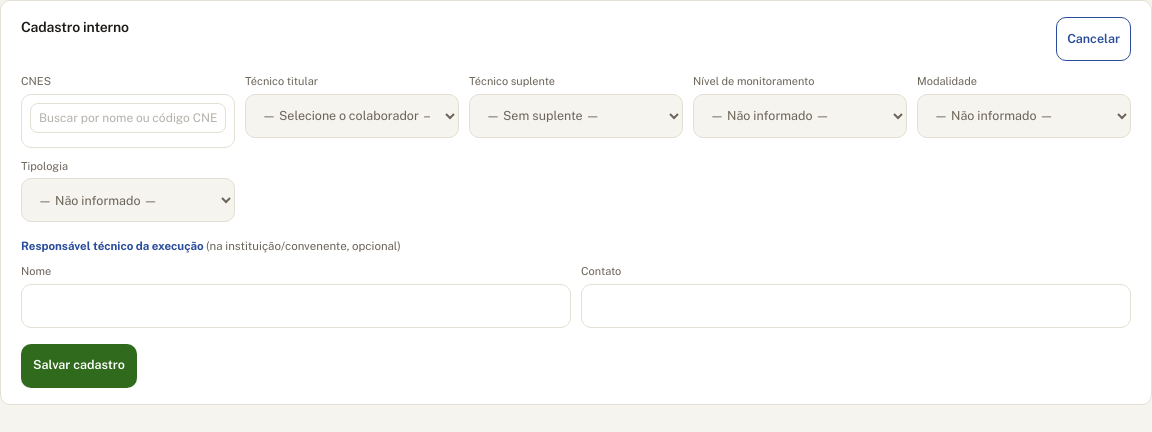
cadastro interno com form, Query e consultas reais › mostra erro associado ao titular obrigatório sem enviar
The width and height of the screenshot is (1152, 432).
Expected: the dropdown labelled "Técnico titular" is enabled, [245,94,459,138]
Click the button "Salvar cadastro": {"x": 79, "y": 366} [21,344,137,388]
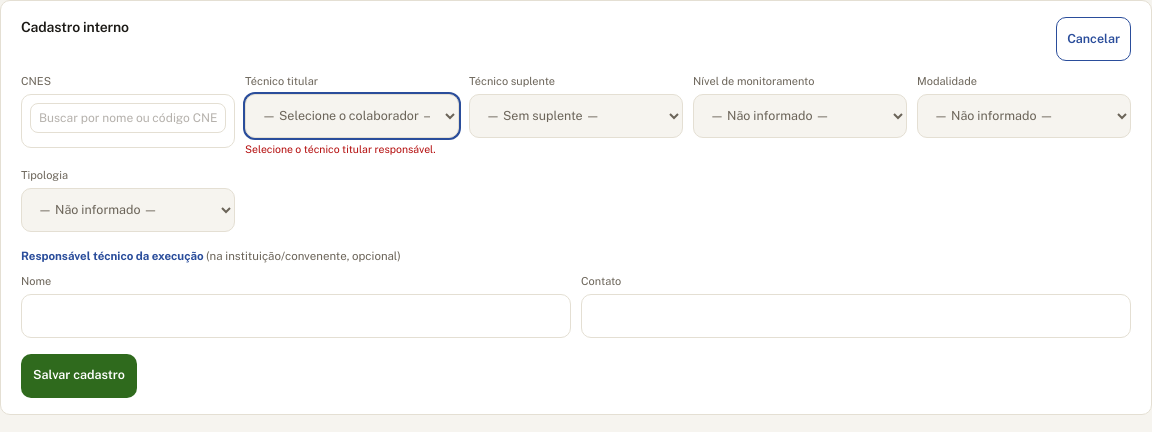
Expected: the message reads "Selecione o técnico titular responsável.", [245,142,436,154]
